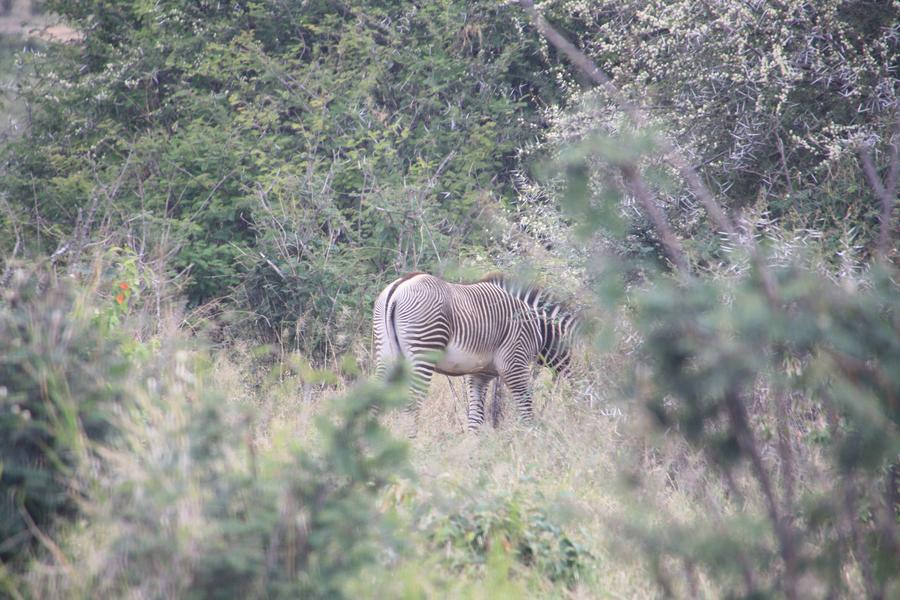zebra_grevys: (381, 251, 538, 374)
